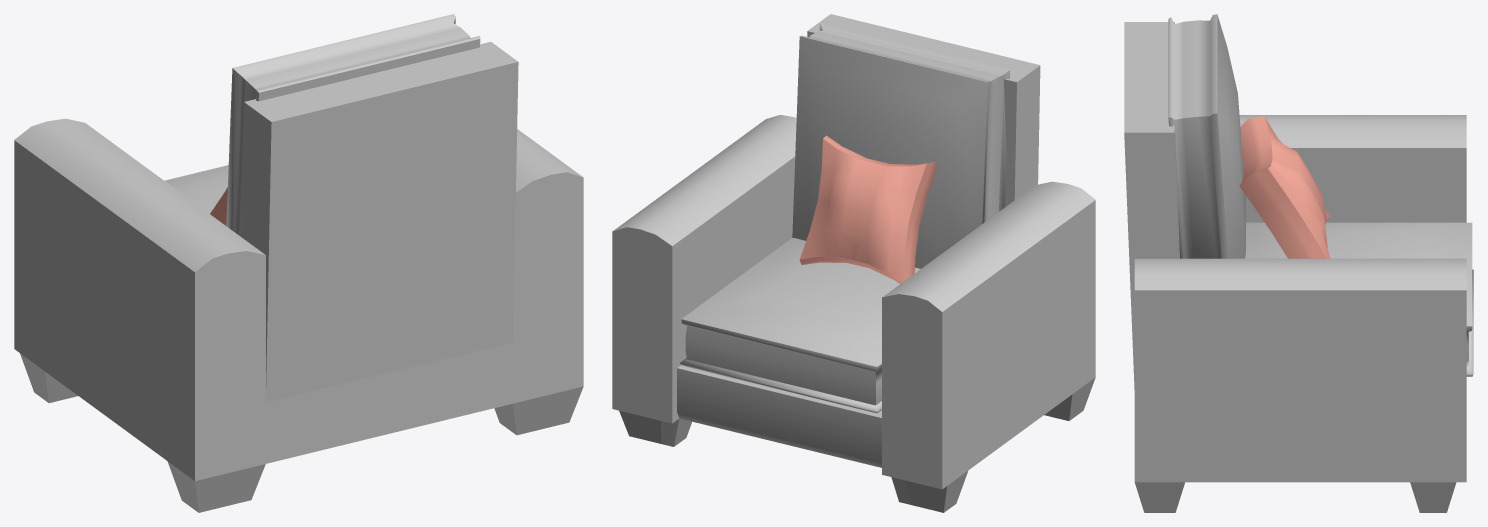
File: little_sofa_01.FBX
The picture shows the model from 3 angles, left to right: view 1: azimuth 30°, elevation 25°; view 2: azimuth 150°, elevation 25°; view 3: azimuth 270°, elevation 25°; orthographic projection. The views are drawn at different scales.
Parts seen in each view (by area): view 1: Box045; view 2: Box045; view 3: Box045.
Part boxes in pixels (<box>): Box045: <box>14,14,583,512</box>; Box045: <box>612,14,1095,512</box>; Box045: <box>1124,14,1473,512</box>.
Size of the model in its own units: 140 by 137 by 119.
